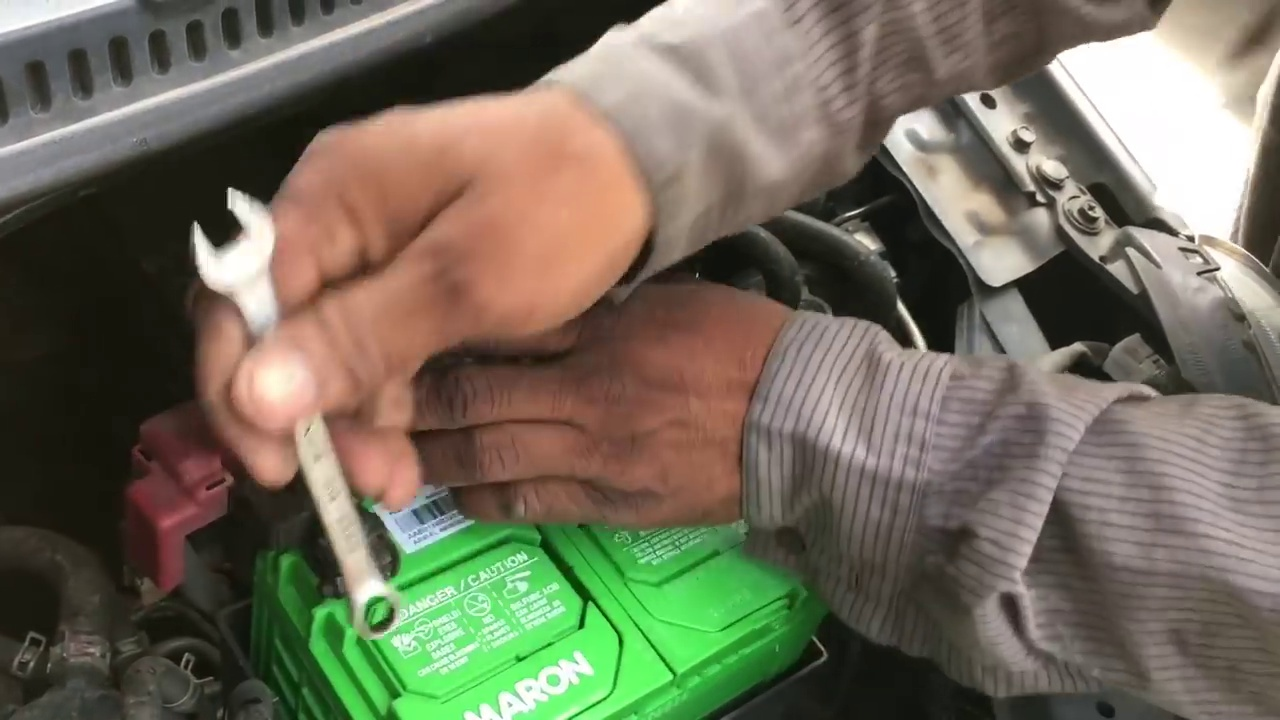battery: (227, 366, 828, 714)
